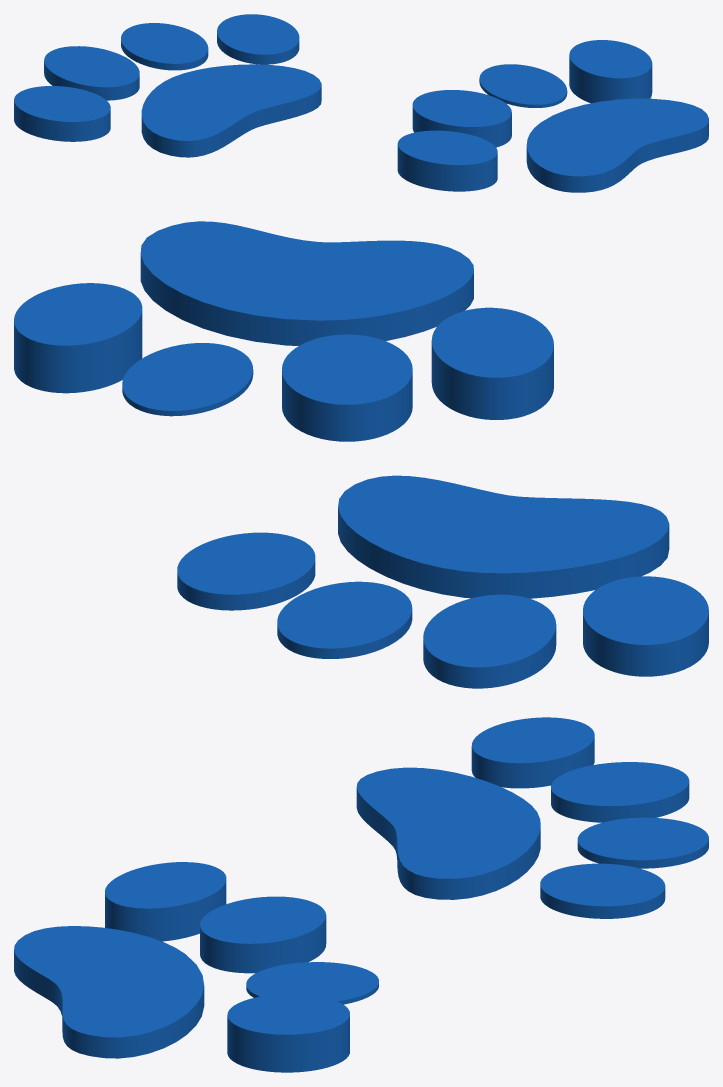
The model's file is emoji_u1f43e.glb.
3 views of the same model, one above another, from view 1: azimuth 30°, elevation 25°; view 2: azimuth 150°, elevation 25°; view 3: azimuth 270°, elevation 25° (orthographic). The views are drawn at different scales.
Parts seen in each view (by area): view 1: emoji_u1f43e; view 2: emoji_u1f43e; view 3: emoji_u1f43e.
Part boxes in pixels (x1,y1,x2,y2): emoji_u1f43e: (14,14,708,192); emoji_u1f43e: (14,221,708,688); emoji_u1f43e: (14,717,708,1072).
Bounding box in the file's own units: 0.033 × 0.0018 × 0.03.
